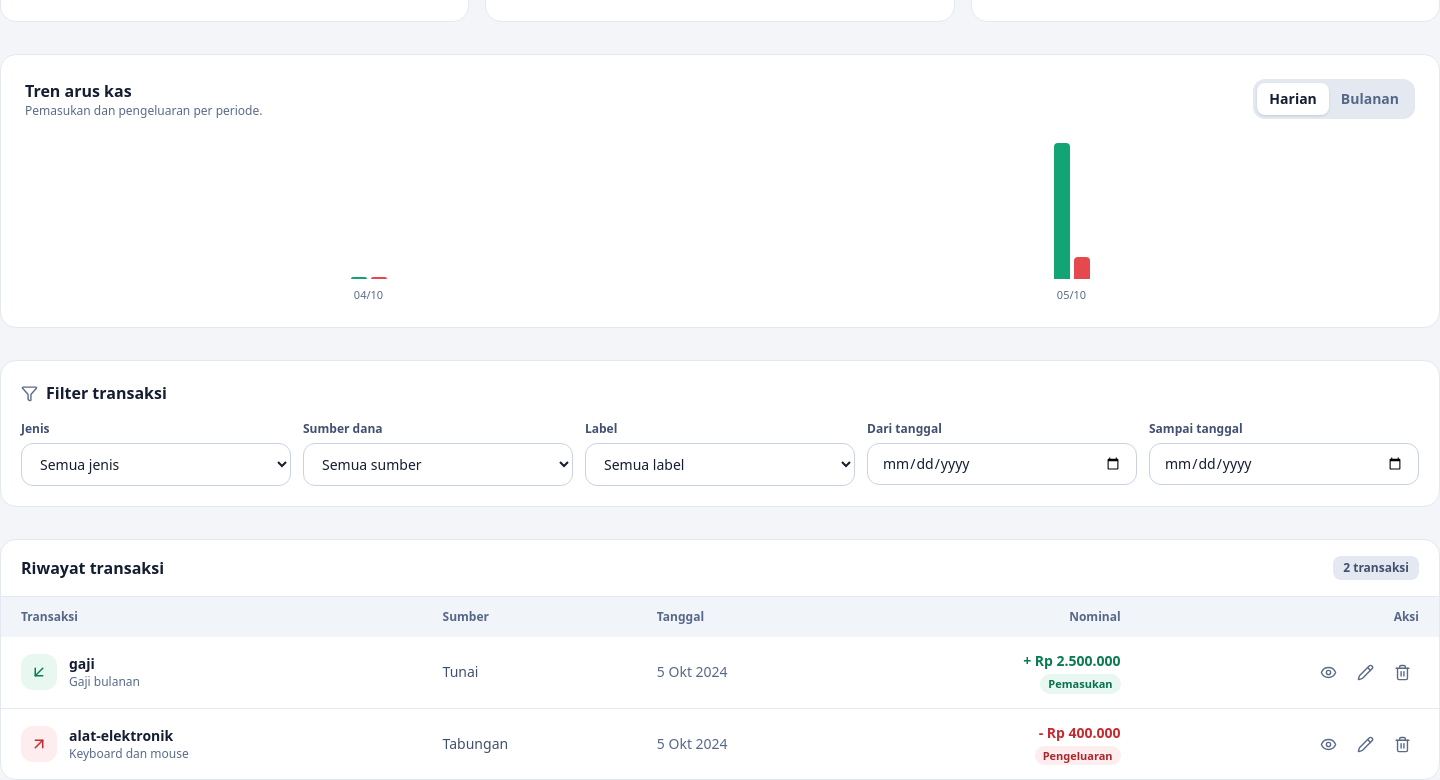
Test: HomePage › daftar transaksi › menampilkan keadaan kosong saat filter tidak cocok
(page scrolled)
Select "gaji" in the dropdown with test id "filter-label" at (720, 464), box [585,443,855,486]
(page scrolled)
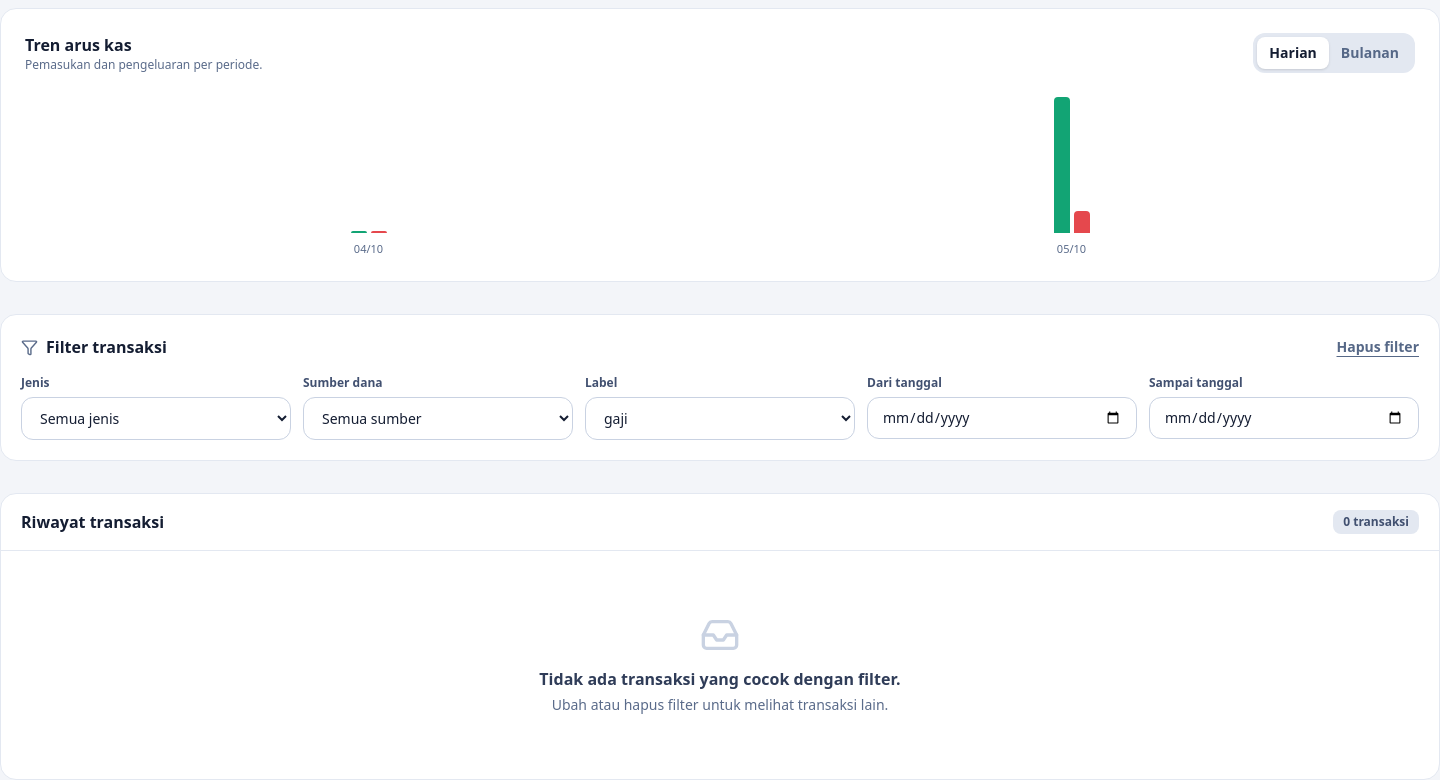
Check: the element with test id "empty-state" shows "Tidak ada transaksi yang cocok dengan filter.", box [539,668,901,690]
